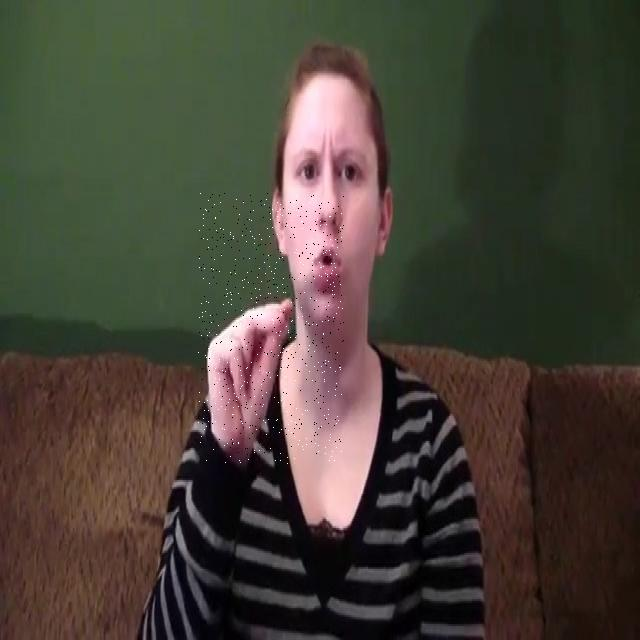no: (198, 193, 344, 464)
